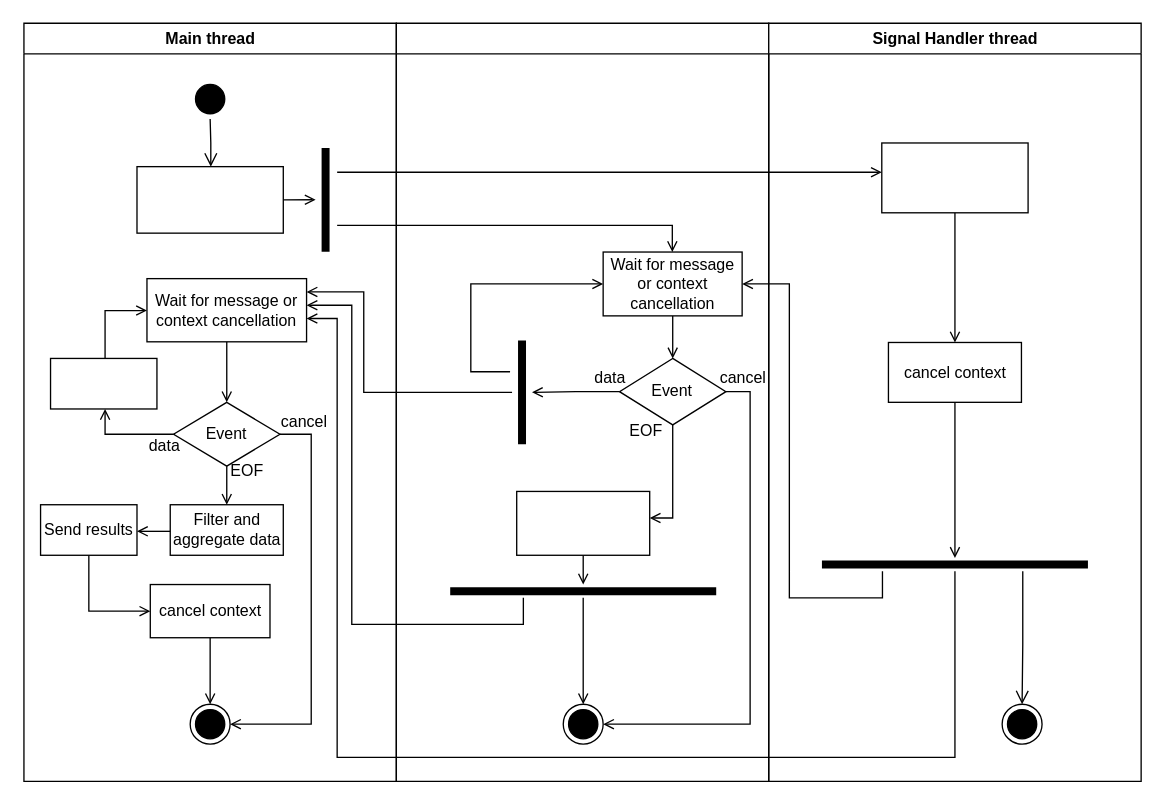
Image size: 1164x805. Some labels were removed from this diagram. The shapes that lost their labels are listed below. From the top down, each one's box as (x1, y1, x2, y2) in pixels, then its label:
(880, 142, 1028, 213): Wait for termination signal
(136, 165, 283, 233): Establish connection to RabbitMQ
(49, 357, 157, 409): Store price or average
(395, 22, 769, 781): Middleware thread
(515, 490, 650, 555): close message channel
